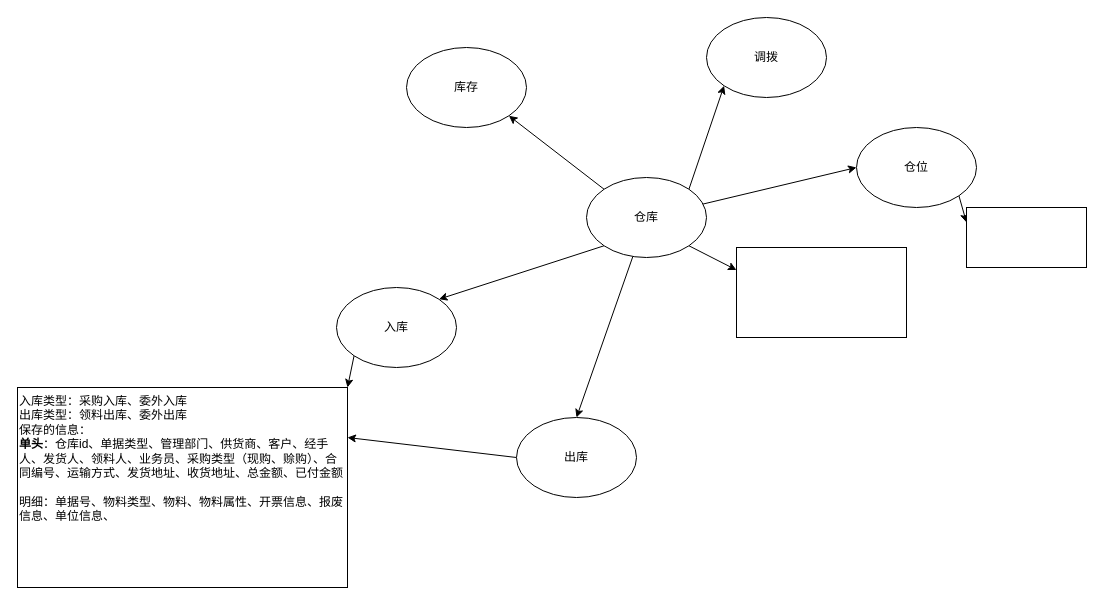
Some shapes in this 1104 by 605 pixel diagram are drawn without their labels. The shapes that lost their labels are listed below. From the top down, each one's centre as x and y in pixels, then its label:
At (1026,237): "类似于超市里某某区，指的是某块区域".
At (821,292): "需要记录什么信息？ 库存编码、库存类型（实仓、虚仓）；仓库物料类型（型材、玻璃、配件）；地址、电话、归哪个部门管理".
